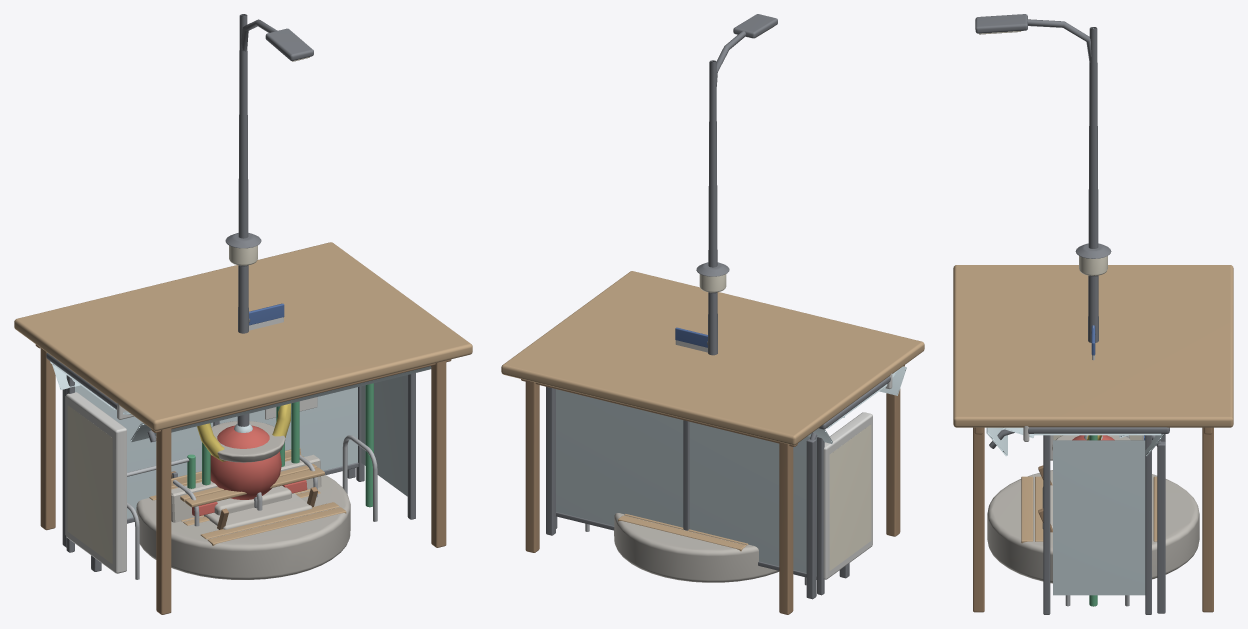
The model's file is furniture.glb.
3 renders of one model, left to right at view 1: azimuth 30°, elevation 25°; view 2: azimuth 150°, elevation 25°; view 3: azimuth 270°, elevation 25°, orthographic. The views are drawn at different scales.
Parts seen in each view (by area): view 1: shelter_canopy, bus_shelter, fountain, artwork, lamp_street, bike_shelter, picnic_table, fitness_bars, jersey_barrier, lamp_path, concrete_block, bus_pole; view 2: shelter_canopy, bus_shelter, fountain, bike_shelter, lamp_street, picnic_table, lamp_path, bus_pole; view 3: shelter_canopy, bus_shelter, fountain, lamp_street, bike_shelter, picnic_table, lamp_path.
Boxes of the visible parts, x1,y1,x2,y2 form: shelter_canopy: (14,242,472,614); bus_shelter: (46,352,415,573); fountain: (136,421,350,579); artwork: (197,403,312,529); lamp_street: (237,14,313,426); bike_shelter: (52,364,431,579); picnic_table: (149,454,346,545); fitness_bars: (127,383,373,507); jersey_barrier: (171,454,321,522); lamp_path: (225,233,261,266); concrete_block: (214,485,291,515); bus_pole: (249,303,284,330); shelter_canopy: (501,271,924,614); bus_shelter: (556,373,892,595); fountain: (614,513,779,582); bike_shelter: (546,366,906,599); lamp_street: (708,14,777,355); picnic_table: (618,514,748,551); lamp_path: (696,262,729,293); bus_pole: (675,327,707,352); shelter_canopy: (953,265,1233,612); bus_shelter: (1023,426,1169,614); fountain: (987,435,1199,583); lamp_street: (975,14,1098,342); bike_shelter: (986,427,1165,613); picnic_table: (1021,465,1157,543); lamp_path: (1075,243,1111,276).
Bounding box in the file's own units: 4.3 × 6.87 × 3.3.
